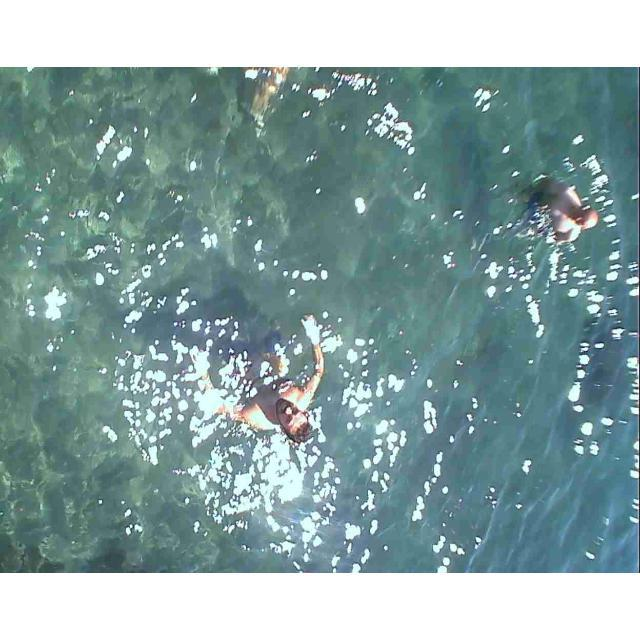human: (193, 310, 321, 450), (523, 173, 597, 253)
